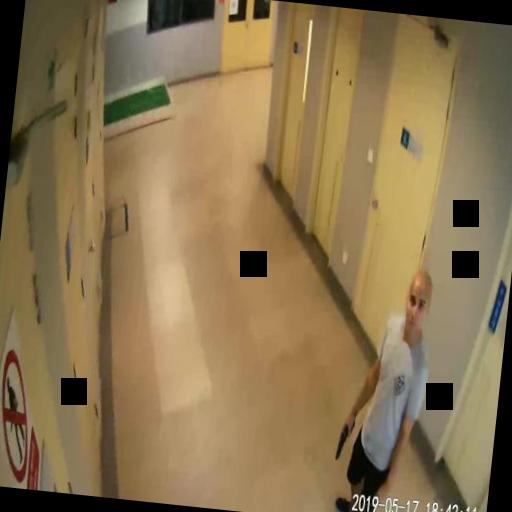Handgun: (334, 412, 355, 461)
